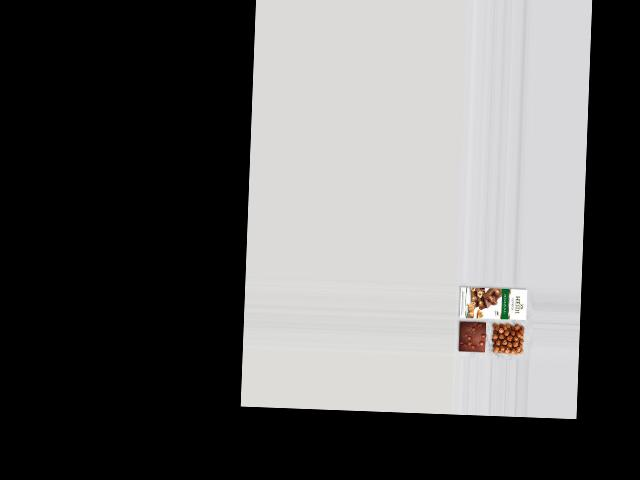chocolate: (456, 319, 486, 355)
